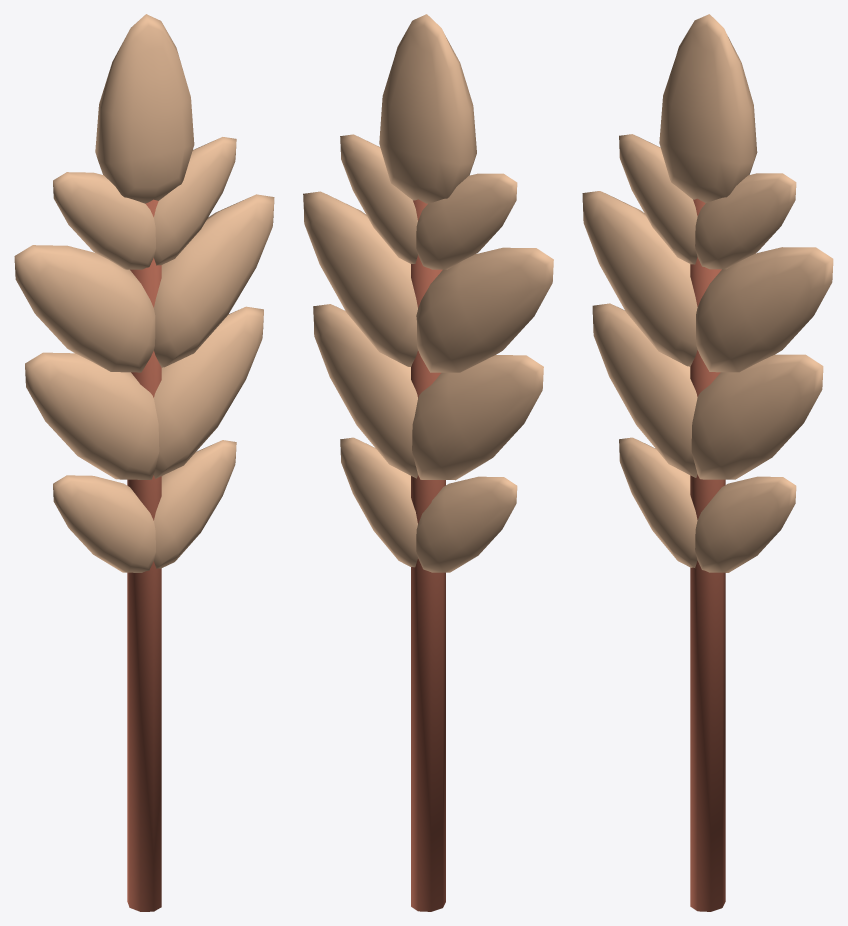
The model's file is Wheat_Smallest_single.fbx.
3 views of the same model, side by side, from view 1: azimuth 30°, elevation 25°; view 2: azimuth 150°, elevation 25°; view 3: azimuth 330°, elevation 25° (orthographic).
Parts seen in each view (by area): view 1: Wheat_Smallest_single; view 2: Wheat_Smallest_single; view 3: Wheat_Smallest_single.
Part boxes in pixels (x1,y1,x2,y2): Wheat_Smallest_single: (14, 14, 274, 911); Wheat_Smallest_single: (303, 14, 553, 911); Wheat_Smallest_single: (582, 14, 833, 911).
Size of the model in its own units: 8.61 by 28.68 by 2.17.
